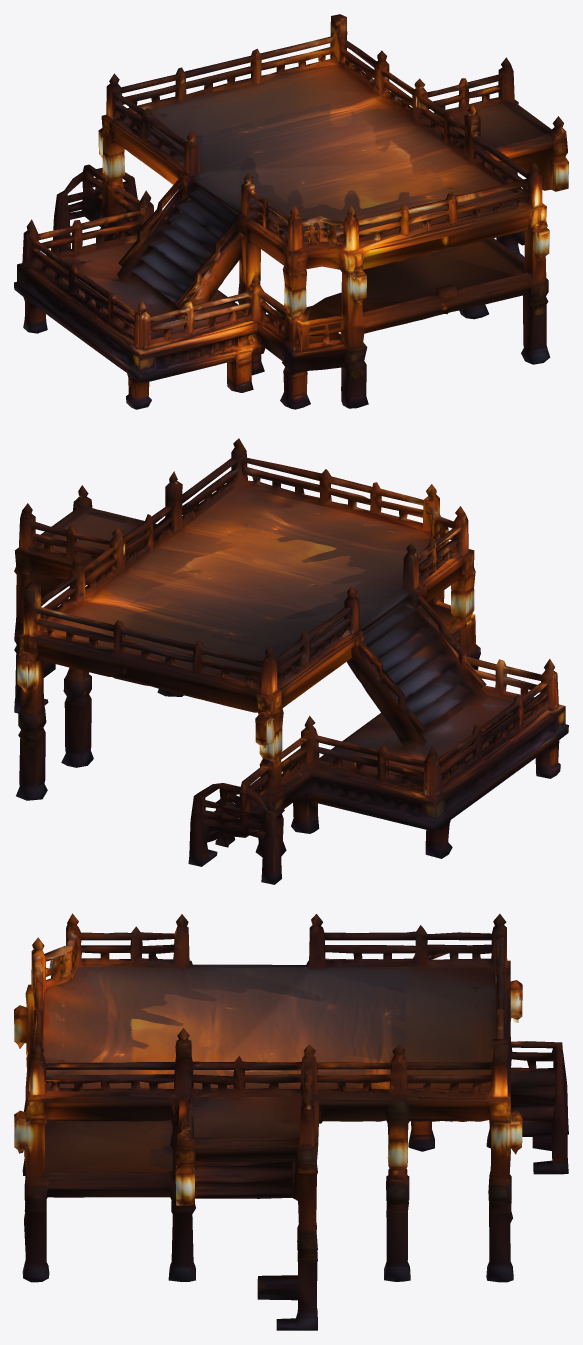
The model's file is DoubleStaresBase_LOD1.fbx.
3 views of the same model, one above another, from view 1: azimuth 30°, elevation 25°; view 2: azimuth 150°, elevation 25°; view 3: azimuth 270°, elevation 25° (orthographic). The views are drawn at different scales.
Visible parts, largest first — view 1: DoubleStaresBase_LOD1; view 2: DoubleStaresBase_LOD1; view 3: DoubleStaresBase_LOD1.
Part boxes in pixels (x1=…): DoubleStaresBase_LOD1: x1=14, y1=14, x2=568, y2=409; DoubleStaresBase_LOD1: x1=14, y1=438, x2=568, y2=884; DoubleStaresBase_LOD1: x1=14, y1=913, x2=568, y2=1330.
Size of the model in its own units: 9.13 by 4.1 by 8.29.
1 material, 1 textured.
